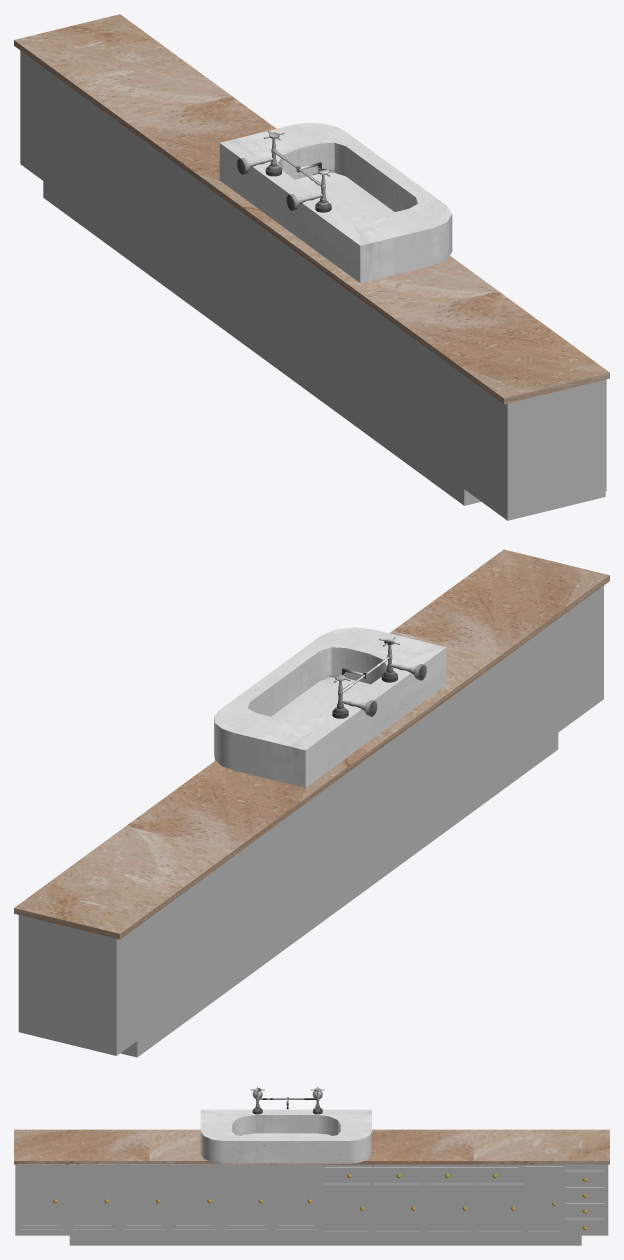
The model's file is Sink With draws.fbx.
3 views of the same model, one above another, from view 1: azimuth 30°, elevation 25°; view 2: azimuth 150°, elevation 25°; view 3: azimuth 270°, elevation 25° (orthographic). The views are drawn at different scales.
Visible parts, largest first — view 1: pCube959, pCube961, pCube980, pCube960; view 2: pCube959, pCube961, pCube980, pCube960; view 3: pCube961, pCube980, pCube960, pCube959, pCube1084, pCube1081, pCube1082, pCube1083, pCube1085, pCube1064, pCube1090, pCube1086 (+11 smaller).
Boxes of the visible parts, bbox=[...] form: pCube959: bbox=[20, 50, 605, 520]; pCube961: bbox=[14, 14, 609, 404]; pCube980: bbox=[219, 123, 452, 283]; pCube960: bbox=[43, 181, 481, 505]; pCube959: bbox=[18, 585, 603, 1055]; pCube961: bbox=[14, 549, 609, 939]; pCube980: bbox=[214, 627, 446, 787]; pCube960: bbox=[120, 733, 558, 1057]; pCube961: bbox=[14, 1129, 609, 1164]; pCube980: bbox=[200, 1109, 371, 1163]; pCube960: bbox=[69, 1235, 581, 1245]; pCube959: bbox=[15, 1164, 608, 1235]; pCube1084: bbox=[221, 1164, 270, 1233]; pCube1081: bbox=[68, 1164, 117, 1233]; pCube1082: bbox=[119, 1164, 168, 1233]; pCube1083: bbox=[170, 1164, 219, 1233]; pCube1085: bbox=[272, 1164, 320, 1233]; pCube1064: bbox=[17, 1164, 65, 1233]; pCube1090: bbox=[526, 1166, 563, 1234]; pCube1086: bbox=[322, 1183, 371, 1234].
Size of the model in its own units: 133 by 215 by 875.
